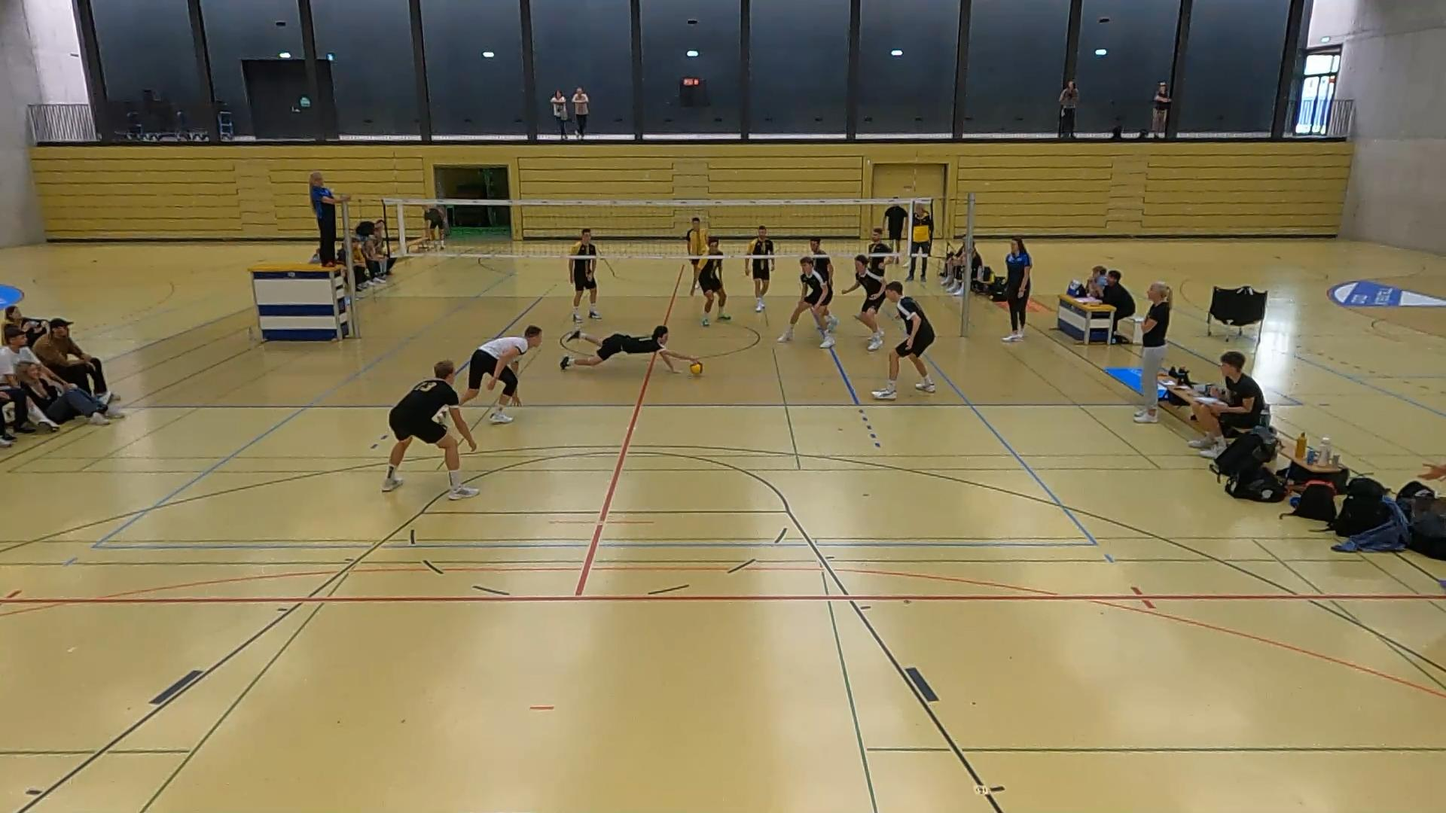Dig: (561, 324, 715, 379)
Player: (382, 361, 478, 499), (460, 326, 541, 423), (872, 282, 935, 400), (777, 256, 834, 348), (841, 254, 884, 351), (694, 236, 730, 326), (809, 237, 838, 348), (569, 228, 600, 323), (746, 227, 774, 312), (686, 218, 707, 295), (866, 227, 894, 273)
ball: (690, 359, 705, 379)
